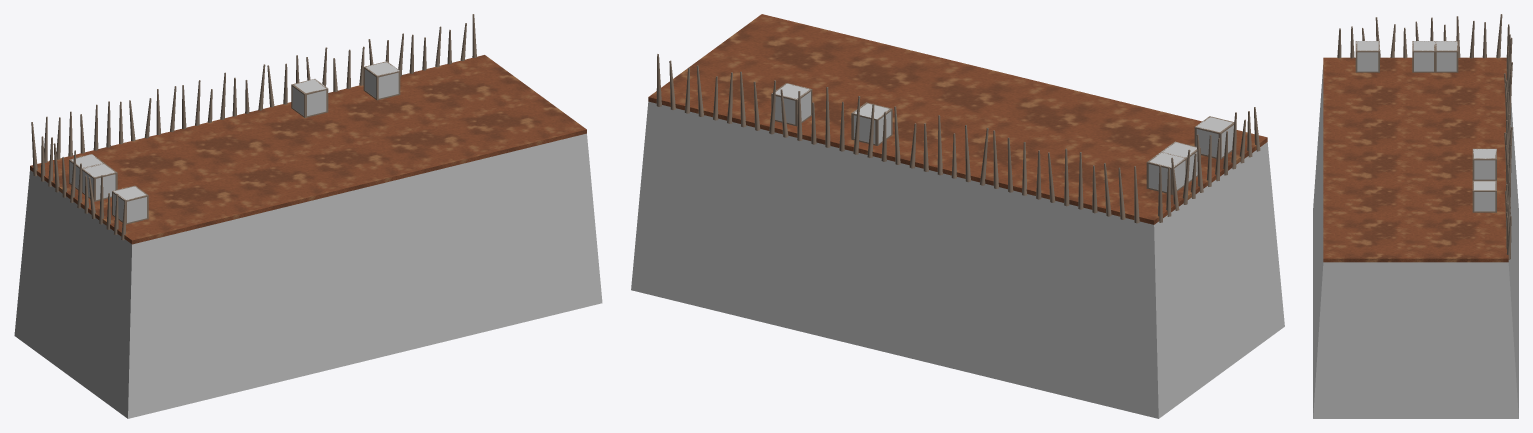
The model's file is SM_Art_Authored_CompactMarketBarricade_1800x700x650_1_9.gltf.
The picture shows the model from 3 angles, left to right: view 1: azimuth 30°, elevation 25°; view 2: azimuth 150°, elevation 25°; view 3: azimuth 270°, elevation 25°; orthographic projection. The views are drawn at different scales.
Visible parts, largest first — view 1: SM_Art_Authored_CompactMarketBarricade_1800x700x650_1_9; view 2: SM_Art_Authored_CompactMarketBarricade_1800x700x650_1_9; view 3: SM_Art_Authored_CompactMarketBarricade_1800x700x650_1_9.
Part boxes in pixels (<box>): SM_Art_Authored_CompactMarketBarricade_1800x700x650_1_9: <box>14,14,602,418</box>; SM_Art_Authored_CompactMarketBarricade_1800x700x650_1_9: <box>631,14,1284,418</box>; SM_Art_Authored_CompactMarketBarricade_1800x700x650_1_9: <box>1313,14,1518,418</box>.
Size of the model in its own units: 18.78 by 8.28 by 7.78.
